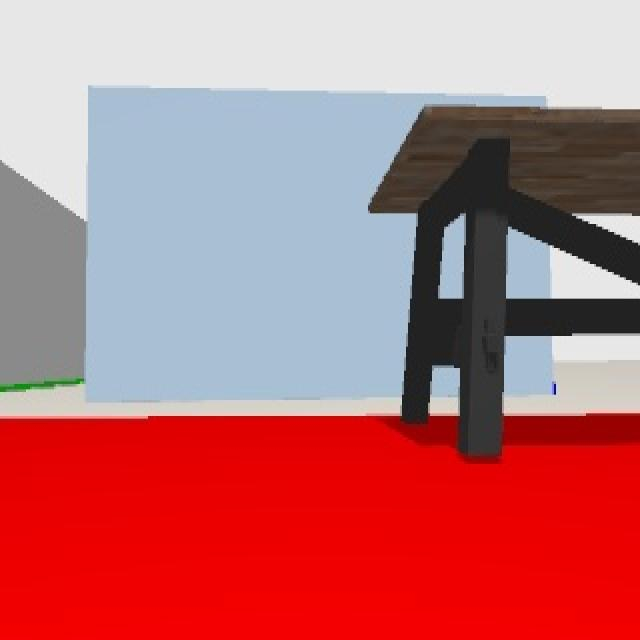dining: (370, 101, 640, 460)
